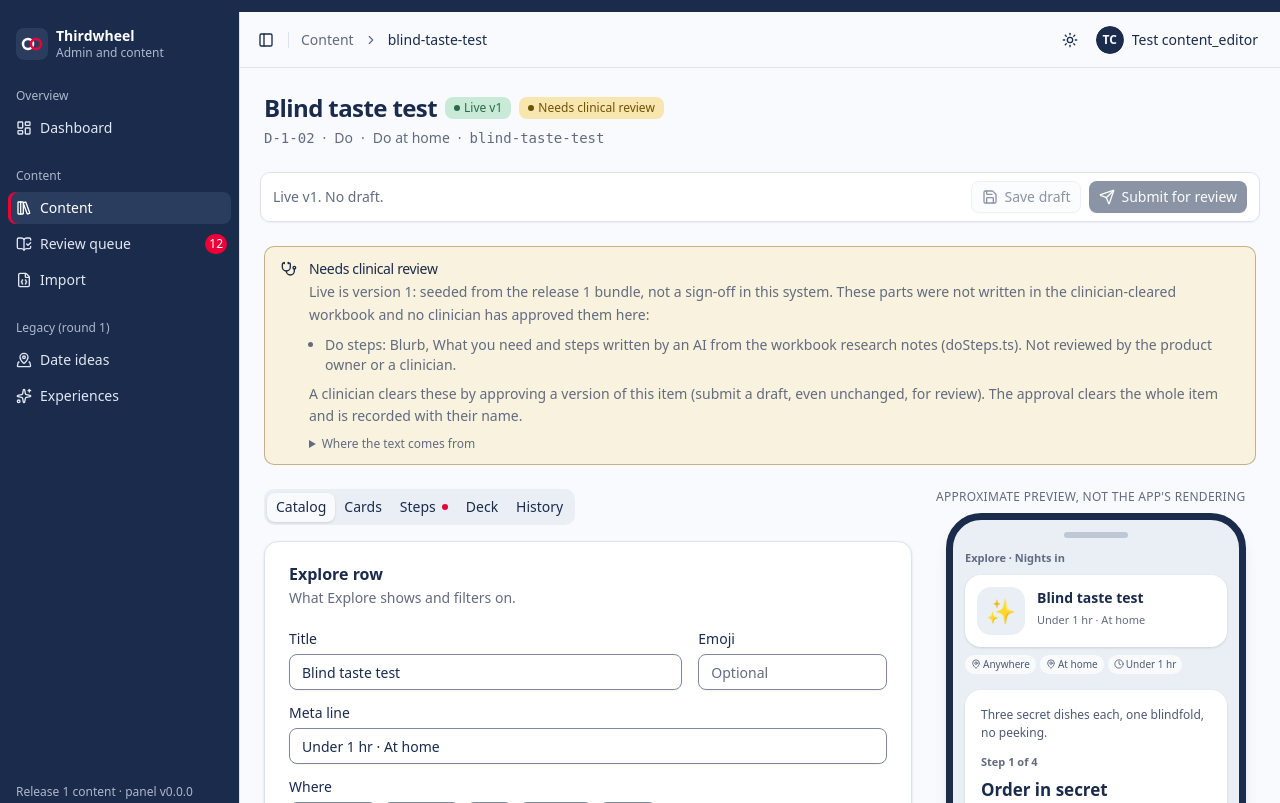
content item editor (mock API) › blocks saving an invalid draft (empty title)
Clear the field labelled "Title": x=486, y=672 [289,654,682,690]
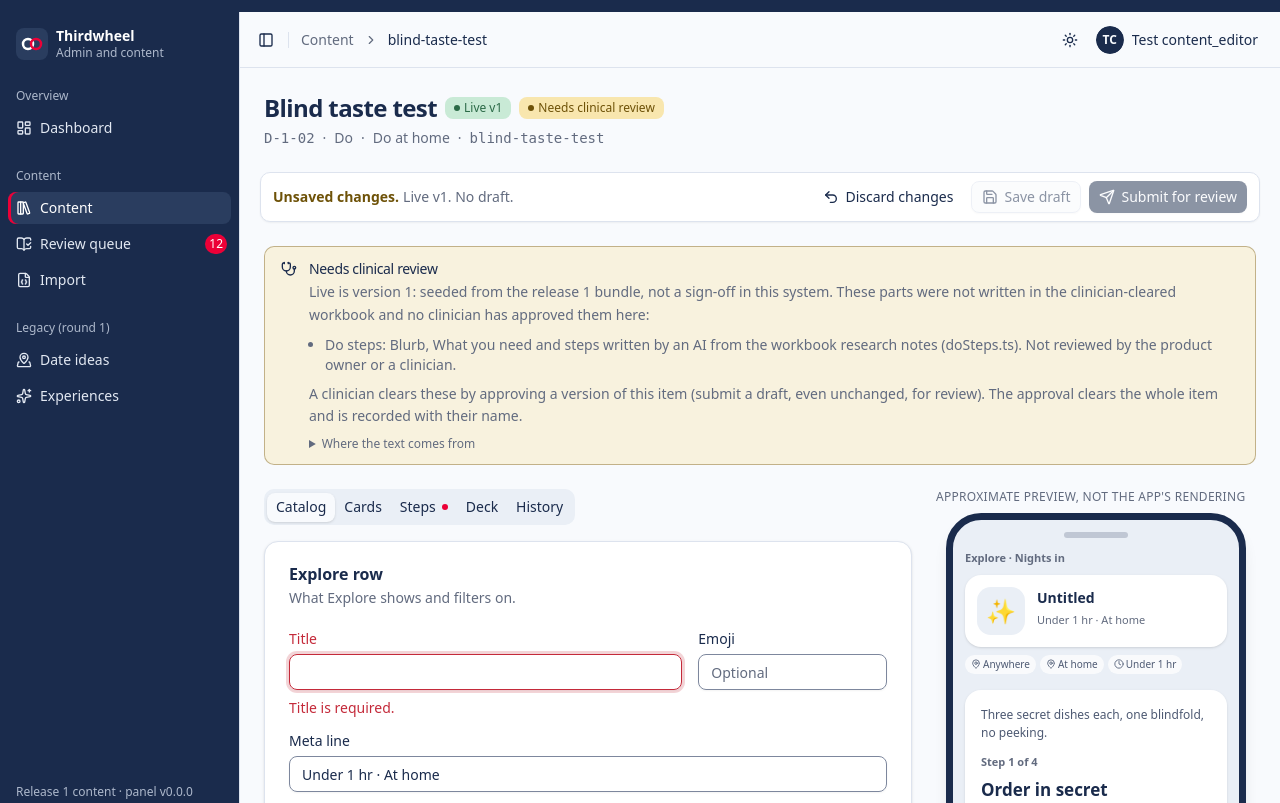
Expected: the button "Save draft" is disabled, [972,181,1082,213]
Expected: the text "Title is required." is shown, [289,698,395,717]
